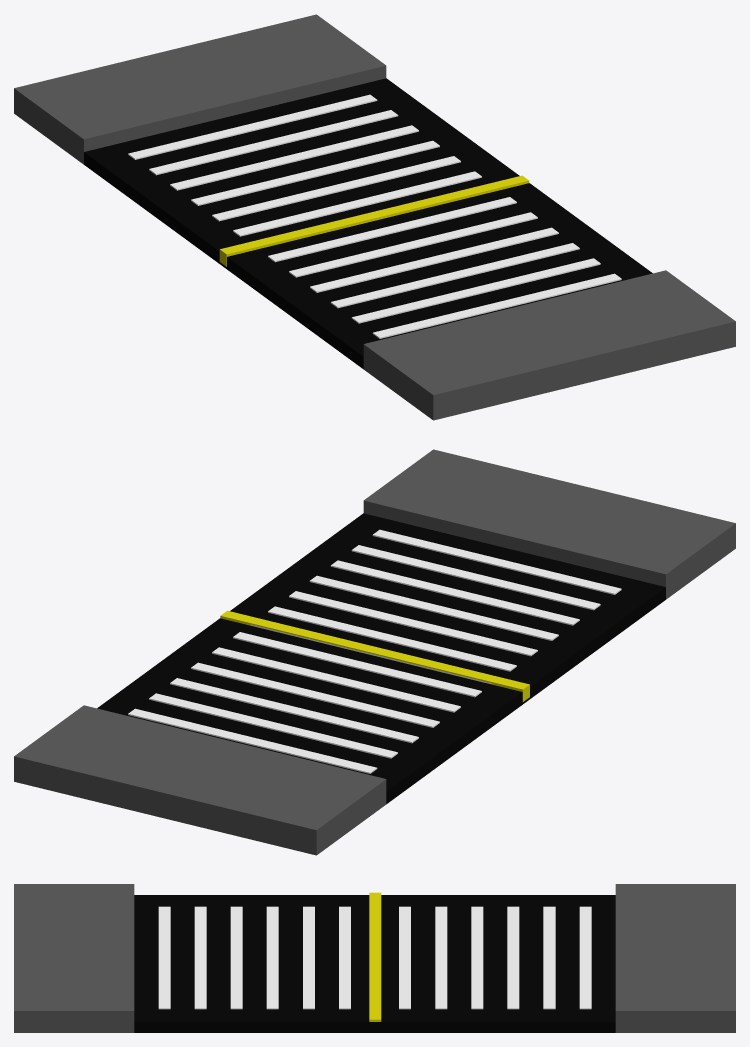
File: Duble Yol 2 Yaya Gecidi.fbx
3 renders of one model, top to bottom at view 1: azimuth 30°, elevation 25°; view 2: azimuth 150°, elevation 25°; view 3: azimuth 270°, elevation 25°, orthographic. The views are drawn at different scales.
Parts seen in each view (by area): view 1: Duble Yol 2 Yaya Gecidi; view 2: Duble Yol 2 Yaya Gecidi; view 3: Duble Yol 2 Yaya Gecidi.
Part boxes in pixels (x1,y1,x2,y2): Duble Yol 2 Yaya Gecidi: [14, 14, 735, 420]; Duble Yol 2 Yaya Gecidi: [14, 449, 735, 855]; Duble Yol 2 Yaya Gecidi: [14, 884, 735, 1032].
Bounding box in the file's own units: 250 × 20 × 600.
